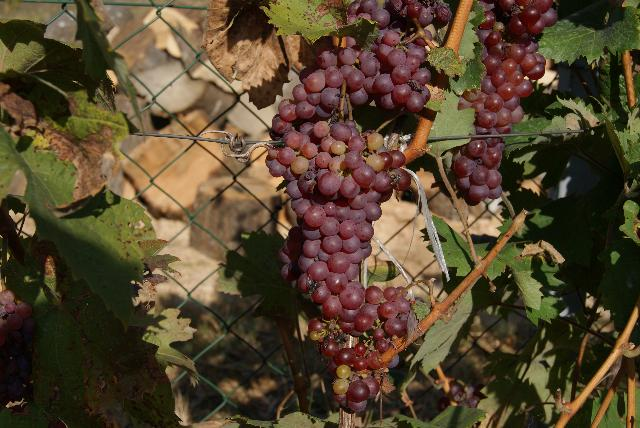grapes: (269, 120, 410, 325), (271, 0, 431, 138), (452, 0, 558, 205), (330, 286, 410, 411)
